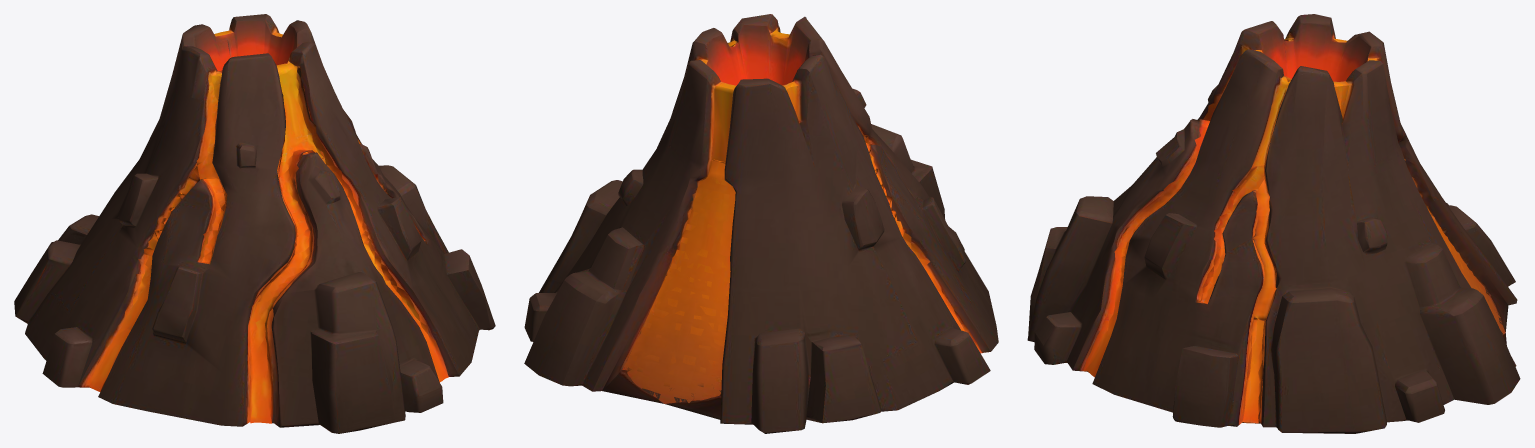
The model's file is volcan_volcan.glb.
3 views of the same model, side by side, from view 1: azimuth 30°, elevation 25°; view 2: azimuth 150°, elevation 25°; view 3: azimuth 270°, elevation 25° (orthographic).
Visible parts, largest first — view 1: tripo_node_a87df575-0b1d-4cde-80ef-525490cc9530; view 2: tripo_node_a87df575-0b1d-4cde-80ef-525490cc9530; view 3: tripo_node_a87df575-0b1d-4cde-80ef-525490cc9530.
Part boxes in pixels (bbox=[...]): tripo_node_a87df575-0b1d-4cde-80ef-525490cc9530: bbox=[14, 14, 495, 433]; tripo_node_a87df575-0b1d-4cde-80ef-525490cc9530: bbox=[524, 14, 998, 433]; tripo_node_a87df575-0b1d-4cde-80ef-525490cc9530: bbox=[1027, 14, 1520, 433].
Bounding box in the file's own units: 0.9769 × 0.6695 × 0.9967.
1 material, 1 textured.
